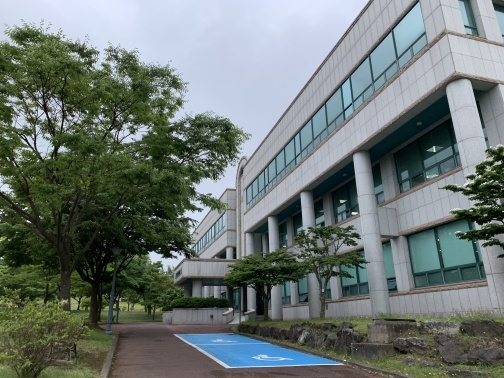Second Library: (241, 23, 498, 321), (170, 143, 369, 325)
